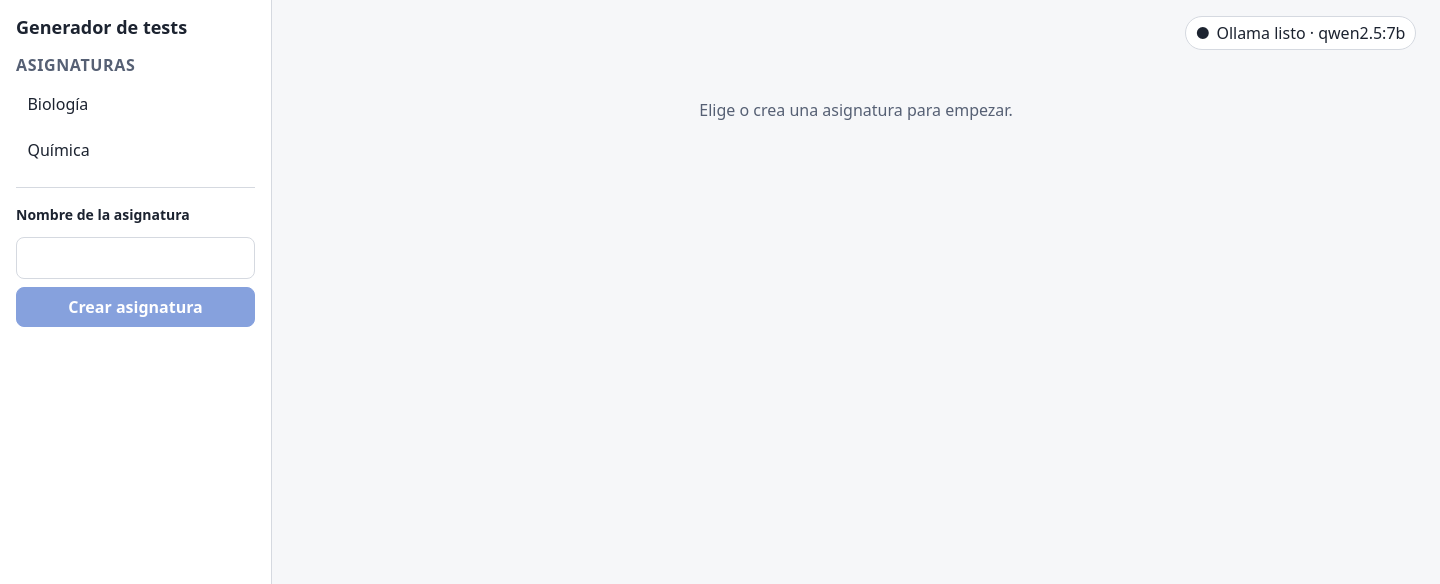
it: I1: cambiar de asignatura con trabajo sin terminar › con una revisión OCR abierta pide confirmación; cancelar mantiene asignatura y revisión
Click the button "Biología" at (136, 104), box [16, 82, 255, 124]
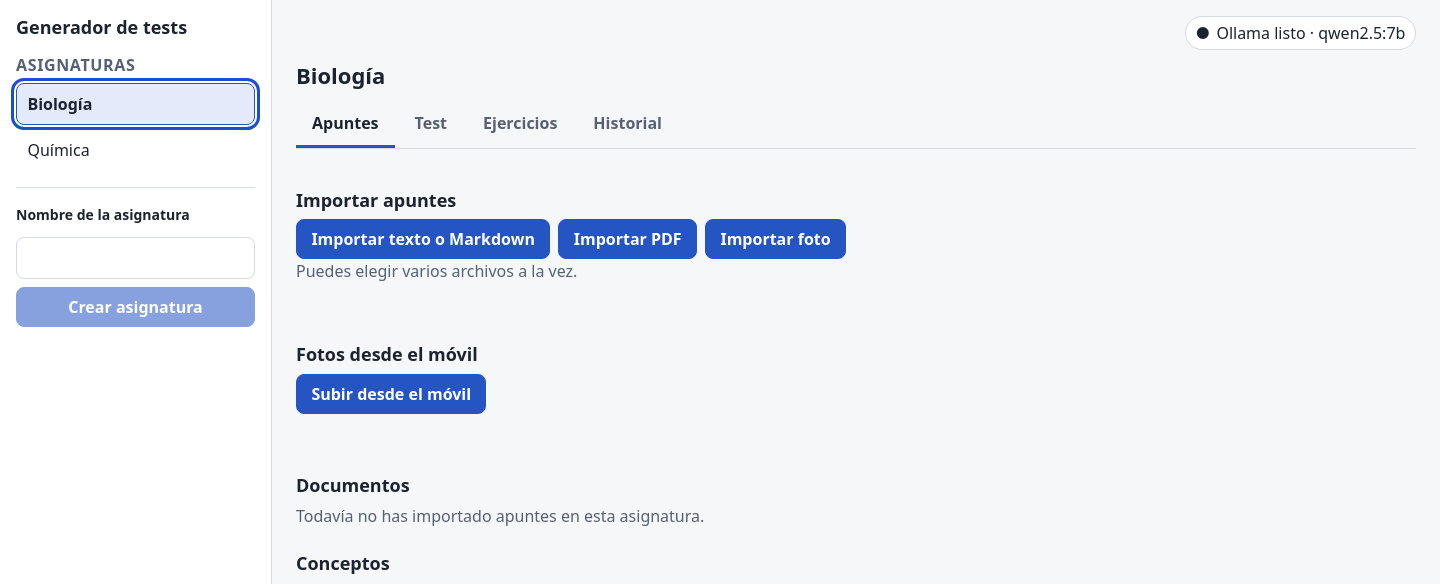
Click the button "Importar foto" at (776, 239), box [705, 219, 846, 259]
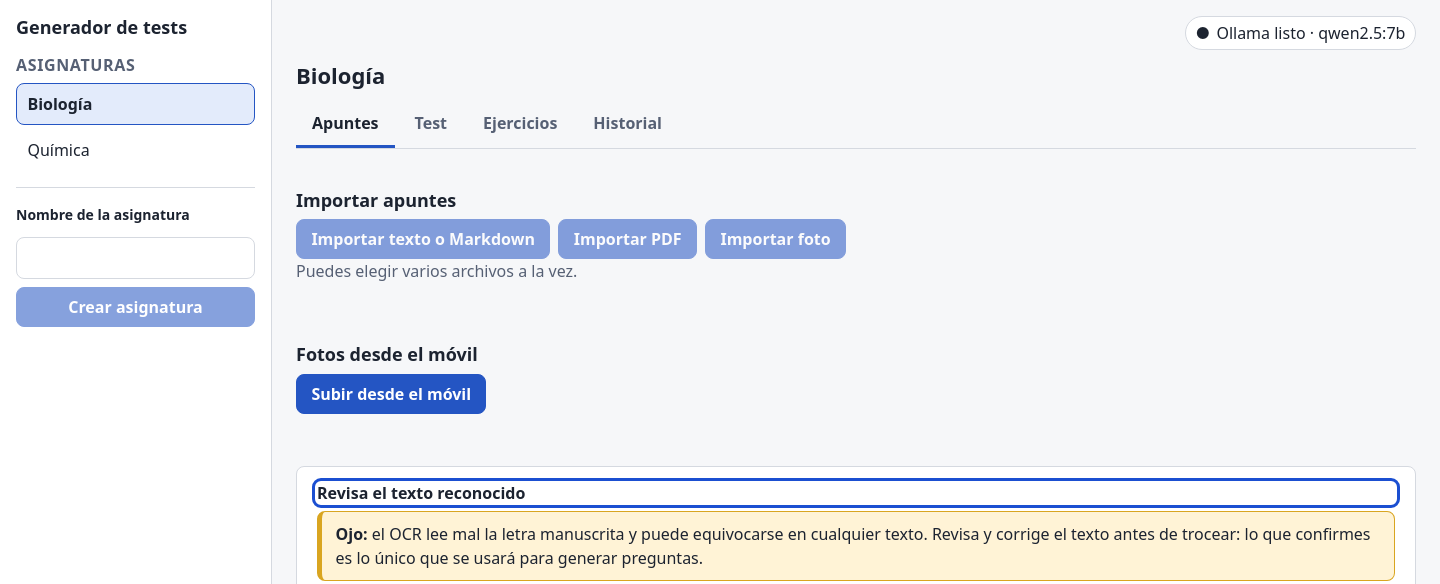
Click the button "Química" at (136, 150), box [16, 128, 255, 170]
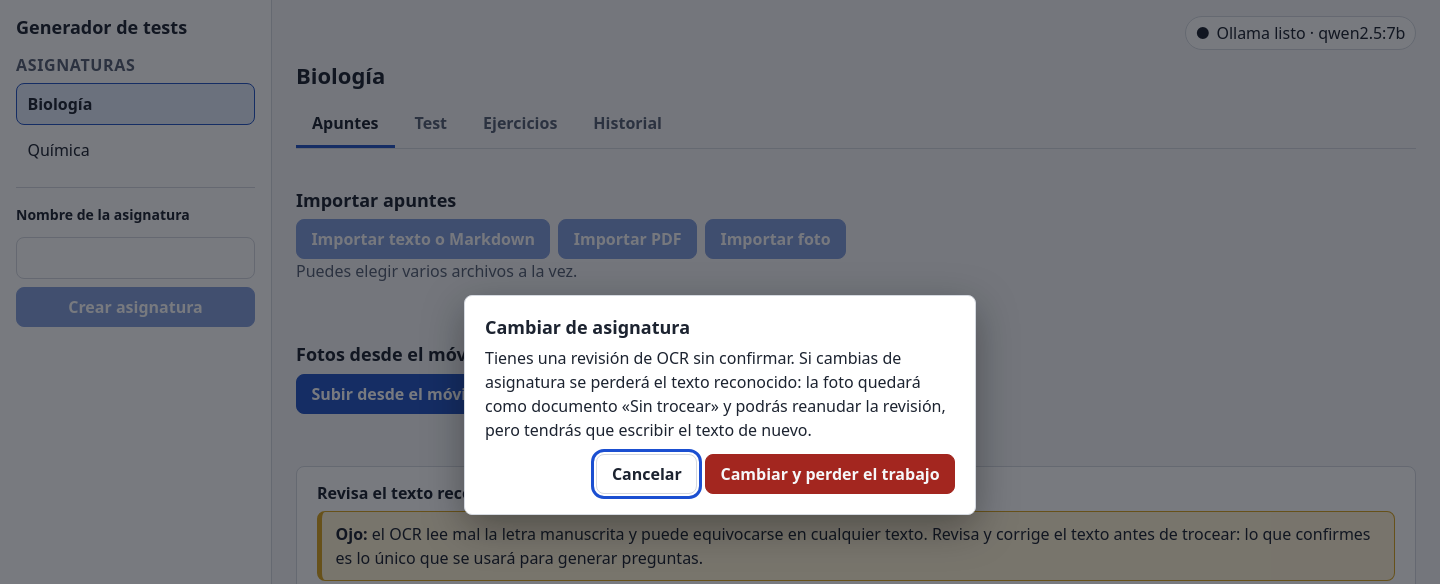
Result: the dialog shows "revisión de OCR sin confirmar" at [485, 347, 946, 441]
Result: the dialog shows "se perderá" at [485, 347, 946, 441]
Click the button "Cancelar" at (647, 474), box [596, 454, 697, 494]
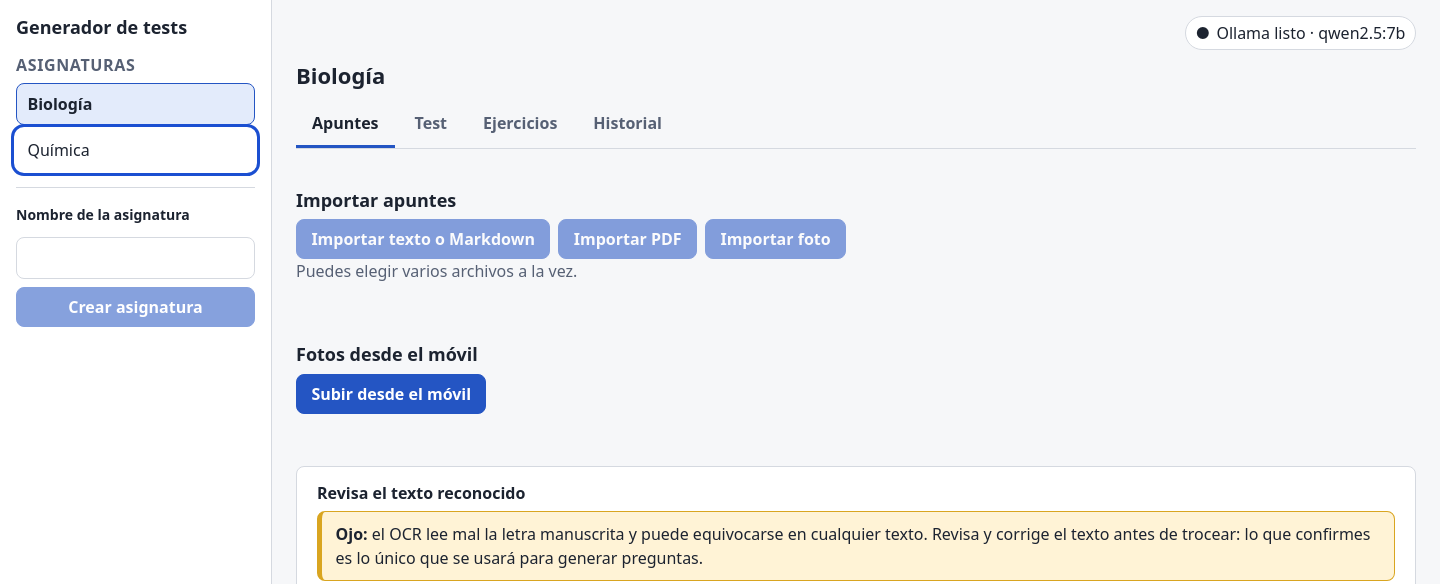
Result: the heading "Biología" is shown at [296, 60, 385, 90]
Note: confirmando sí cambia
Click the button "Química" at (136, 150), box [16, 128, 255, 170]
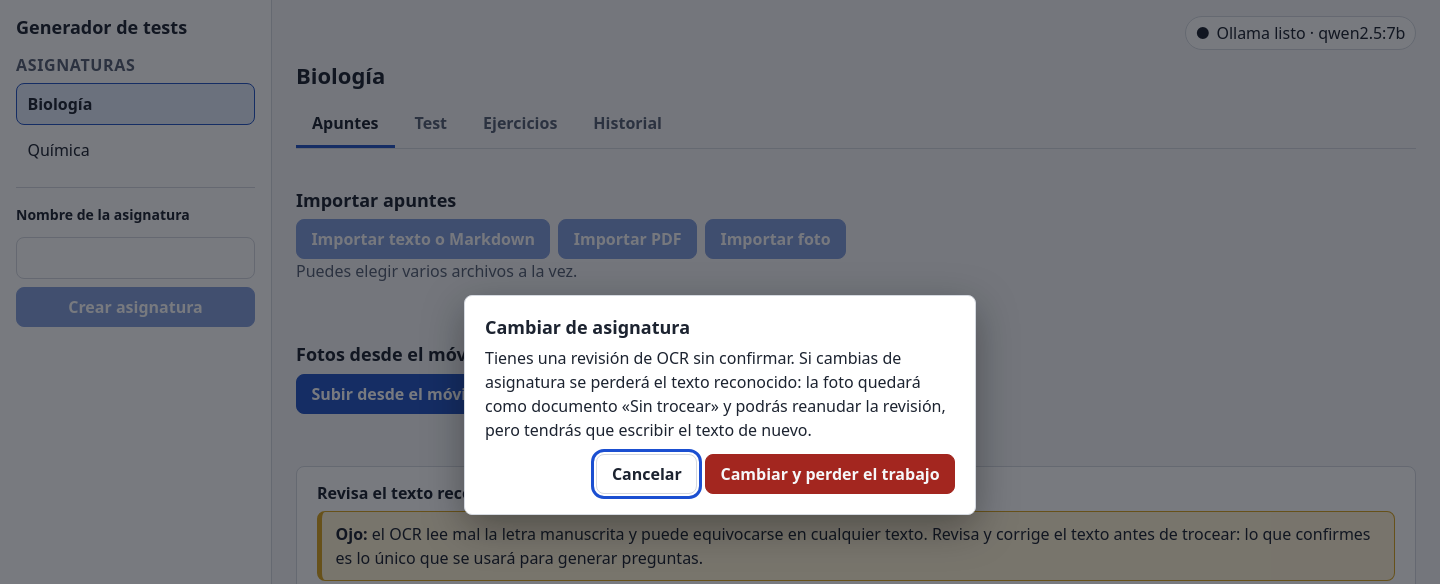
Click the button "Cambiar y perder el trabajo" at (830, 474), box [705, 454, 955, 494]
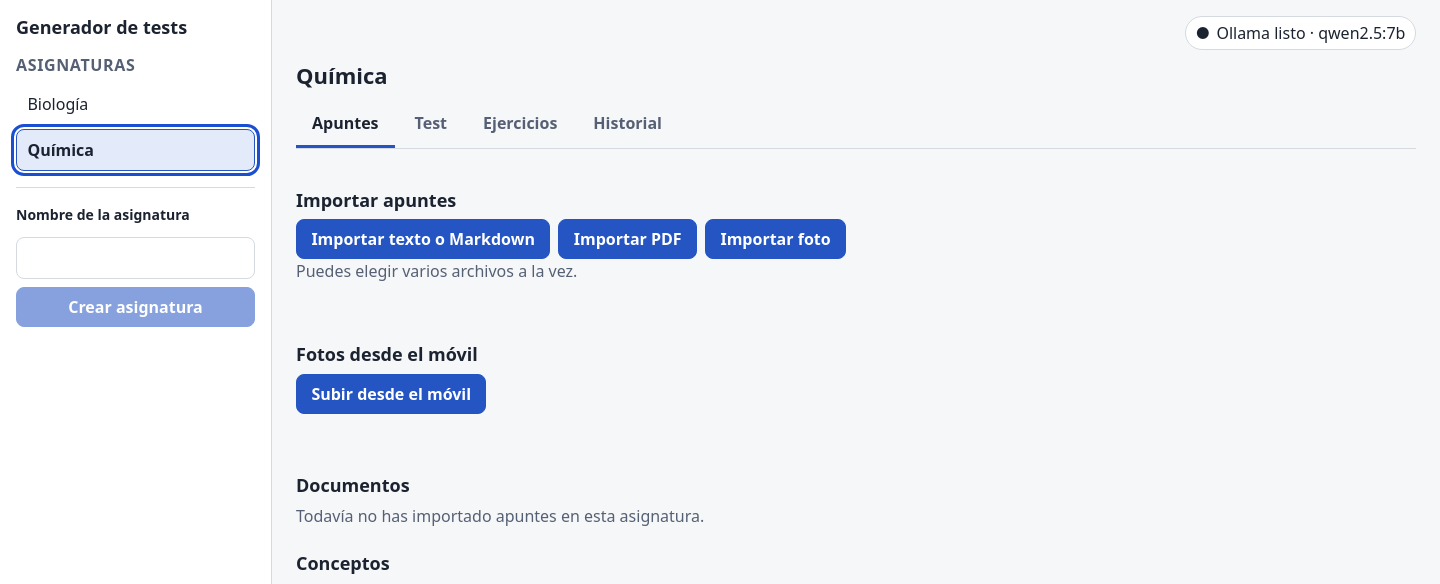
Result: the heading "Química" is shown at [296, 60, 388, 90]
Result: the heading labelled "texto reconocido" is gone
